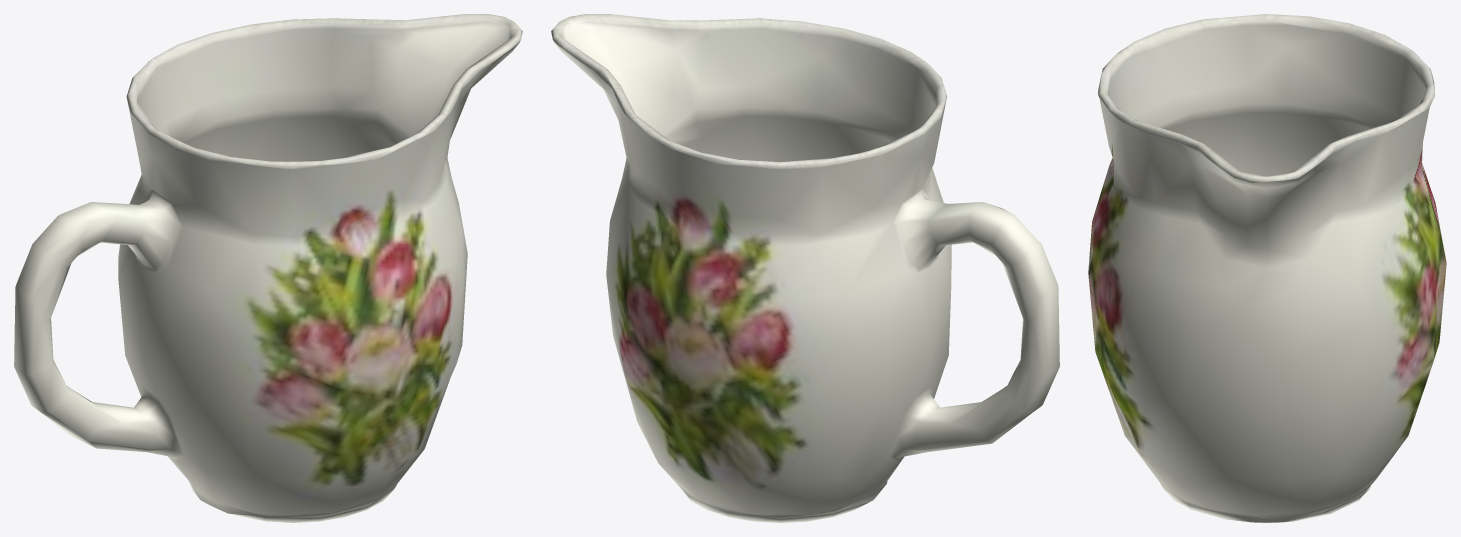
Rendered from jug_01.low.glb.
3 renders of one model, left to right at view 1: azimuth 30°, elevation 25°; view 2: azimuth 150°, elevation 25°; view 3: azimuth 270°, elevation 25°, orthographic. The views are drawn at different scales.
Parts seen in each view (by area): view 1: body; view 2: body; view 3: body.
Part boxes in pixels (box(x1,y1,x2,y2)): body: box(14, 14, 522, 522); body: box(551, 14, 1059, 522); body: box(1088, 14, 1446, 522).
Size of the model in its own units: 0.2732 by 0.2113 by 0.1668.
Materials: 1 (1 with a texture image).
